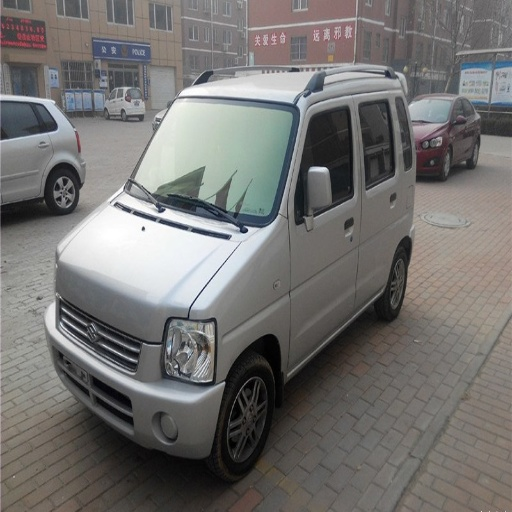front_bumper: (90, 364, 225, 457)
front_glass: (124, 98, 299, 229)
front_left_door: (289, 99, 361, 370)
